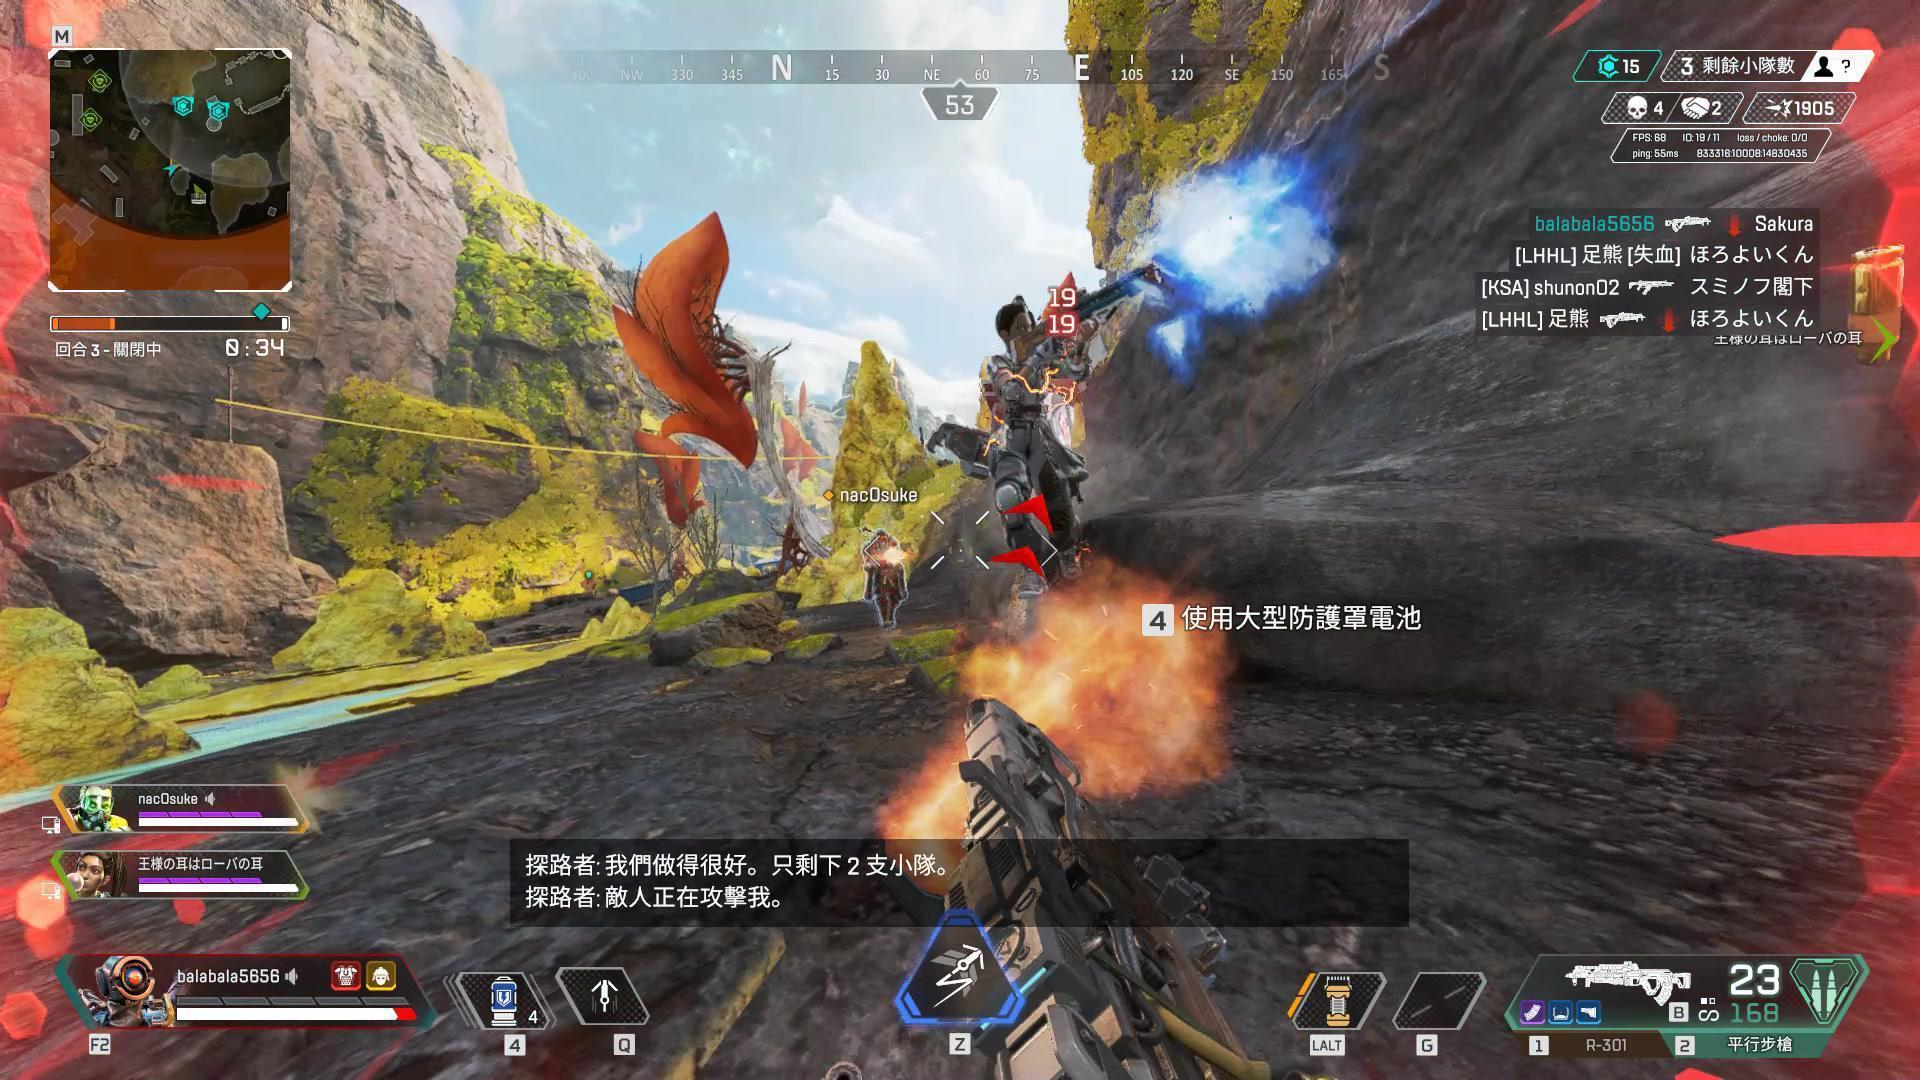avatar: (979, 299, 1084, 581), (861, 527, 910, 631)
